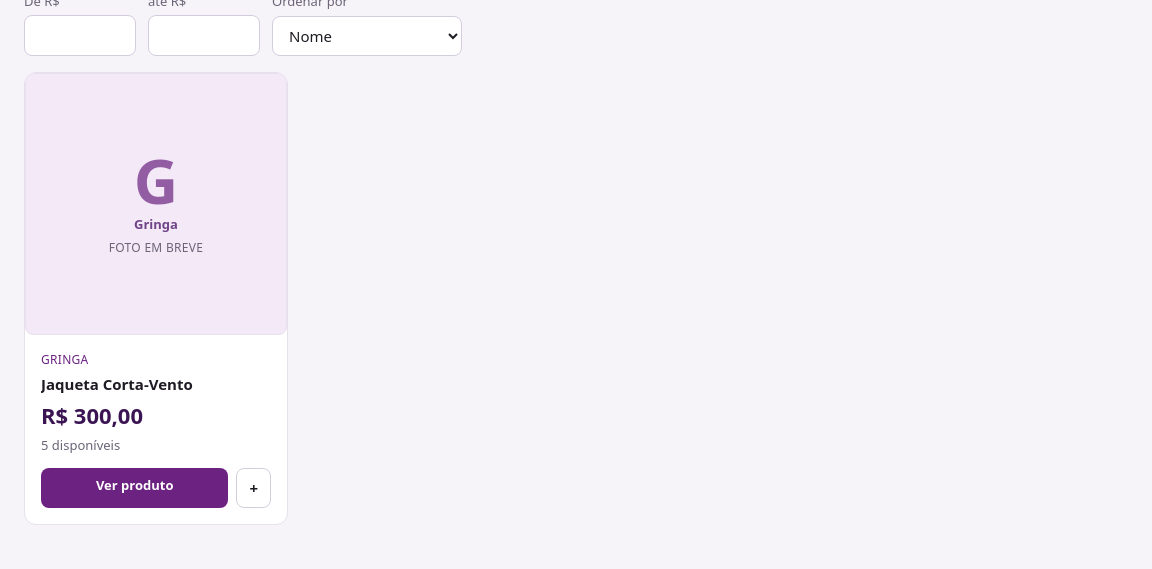
Test case: o cupom na gaveta do carrinho › com conta, a simulação leva o token do portal
This screenshot has width=1152, height=569.
(page scrolled)
Expected: the text "Jaqueta Corta-Vento" is shown, 41,374 -> 193,394
Click the button "+" at (254, 488), box 236,468 -> 271,508
(page scrolled)
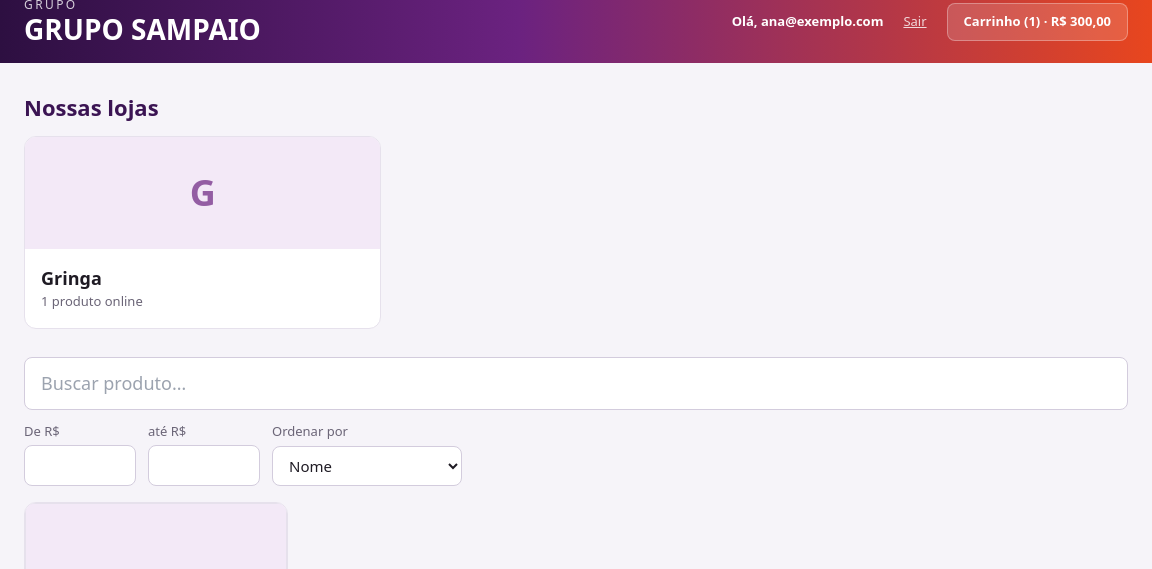
Click the button "Carrinho (1) · R$ 300,00" at (1037, 22), box 947,3 -> 1128,41
(page scrolled)
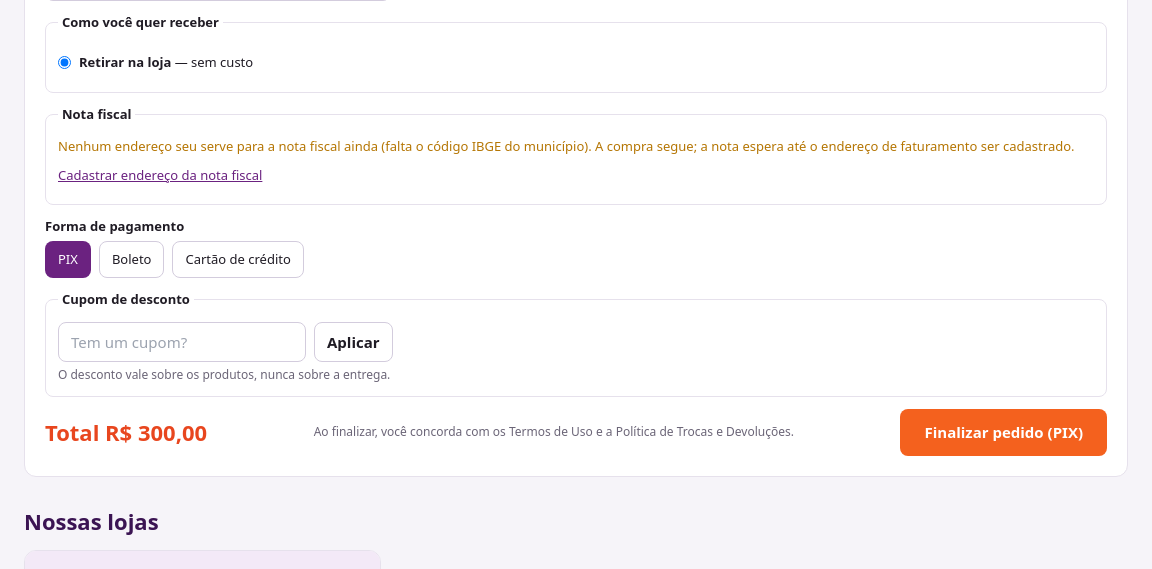
Now the text "Retirar na loja" is shown, box 79,52 -> 171,70
Type "DEZ" into the field named "Código do cupom" at (182, 342), box 58,322 -> 306,362
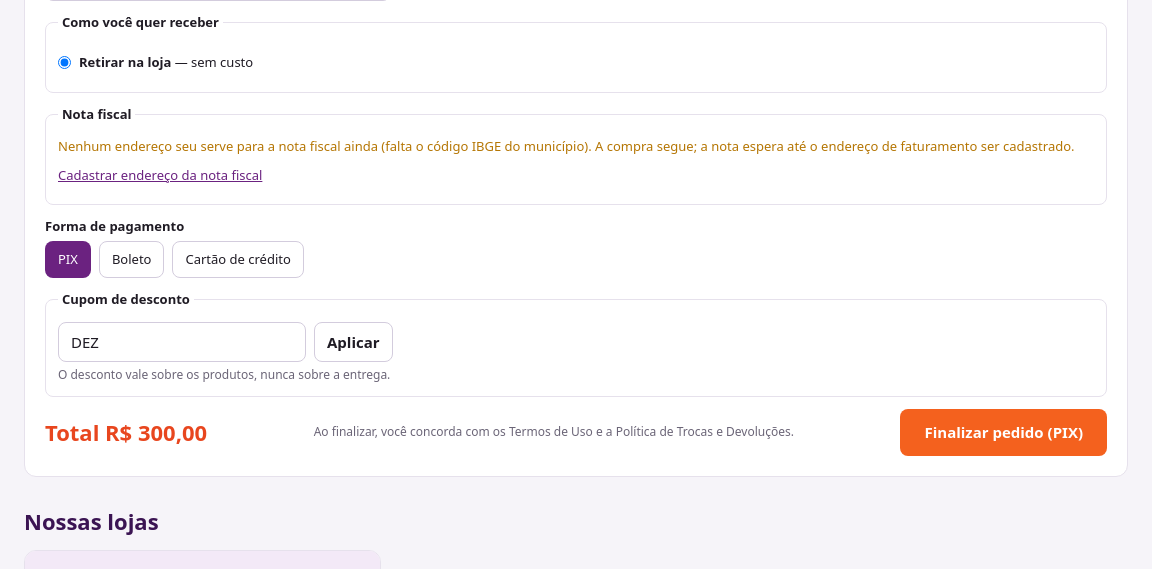
Click the button "Aplicar" at (353, 342), box 314,322 -> 393,362
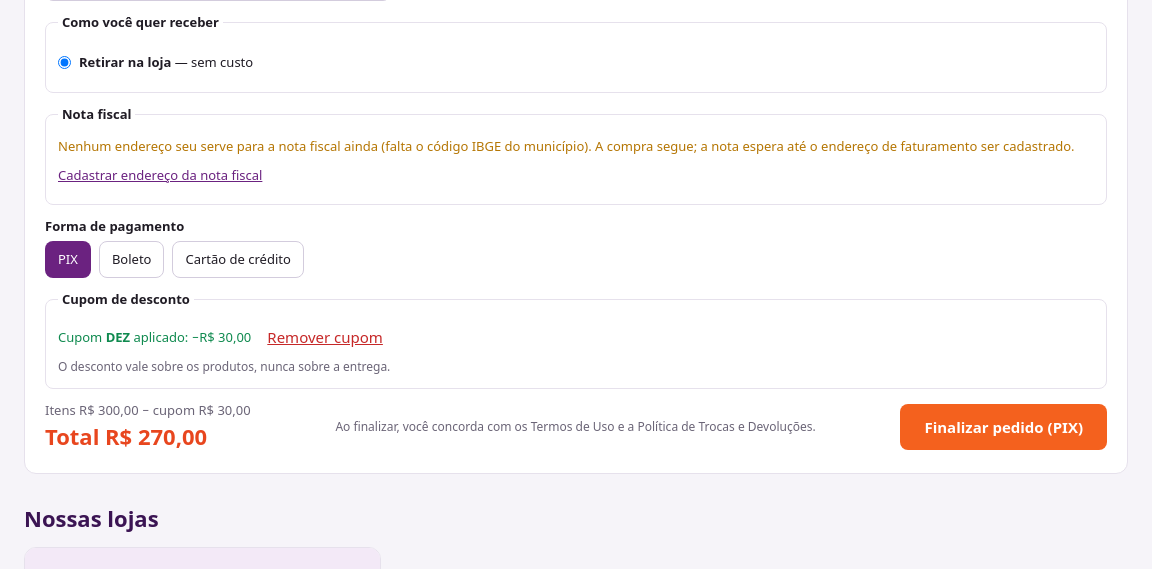
Now the text "Cupom DEZ aplicado: −R$ 30,00" is shown, box 58,328 -> 251,347
